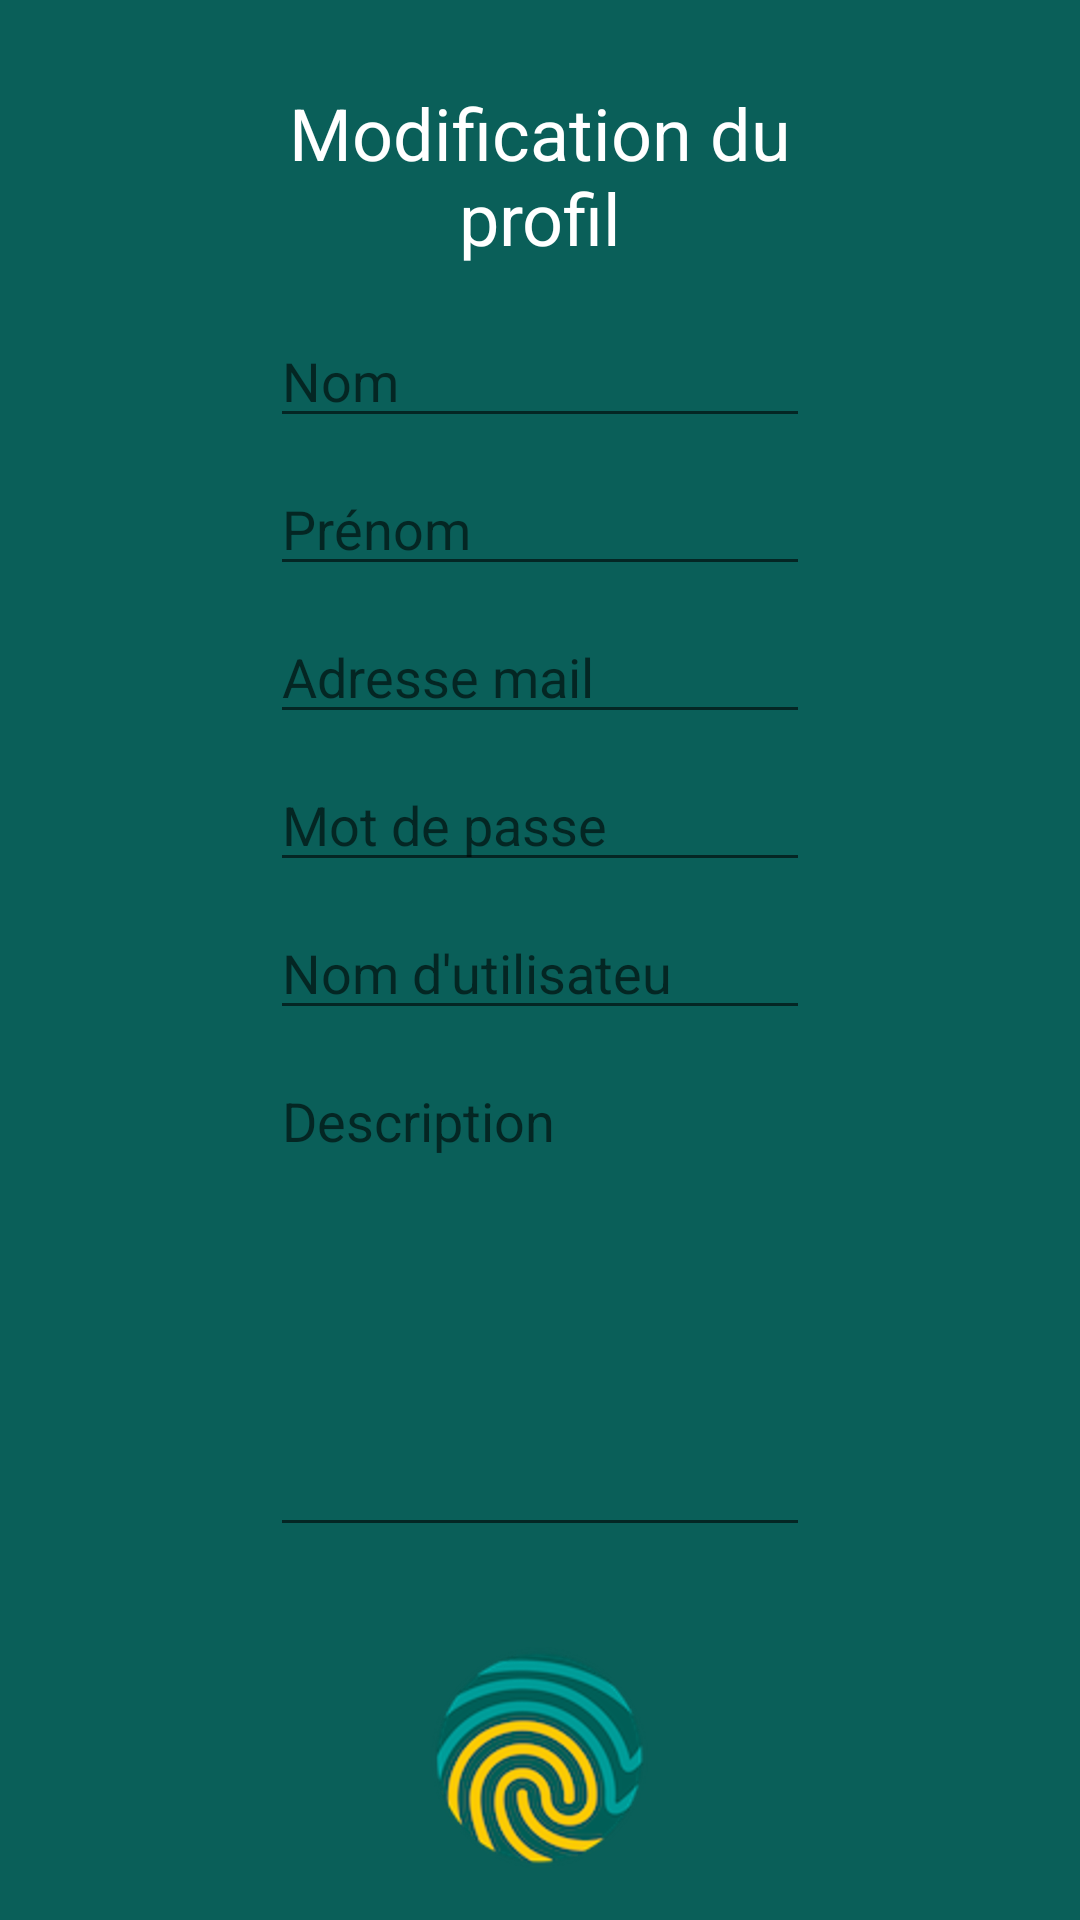

Locate icon controls on the screen. Image size 1080 x 1920, boxes as (x1=x1, y1=y1, x2=x2, y2=y2).
empreinte: (x1=437, y1=1660, x2=642, y2=1863)
